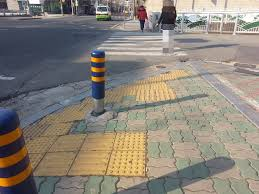guide_blocks: (27, 133, 148, 173), (101, 84, 174, 100), (66, 96, 122, 111), (137, 68, 190, 83), (24, 124, 71, 133), (40, 112, 85, 121)
